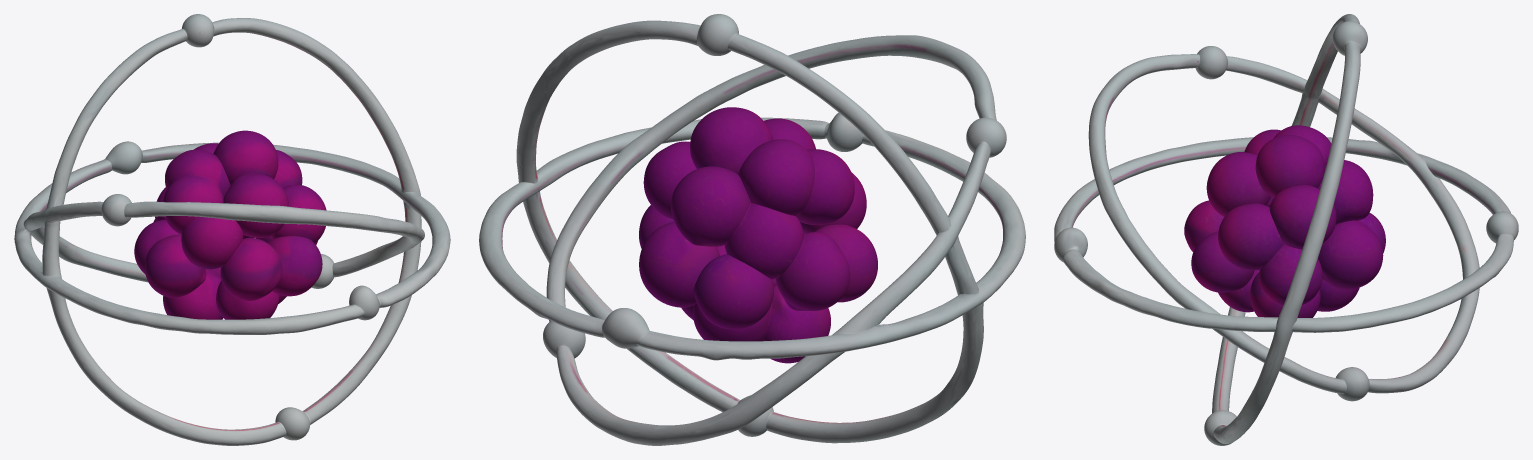
Rendered from phys.glb.
3 renders of one model, left to right at view 1: azimuth 30°, elevation 25°; view 2: azimuth 150°, elevation 25°; view 3: azimuth 270°, elevation 25°, orthographic. The views are drawn at different scales.
Bounding box in the file's own units: 1.94 × 1.92 × 2.
Materials: 1 (1 with a texture image).
